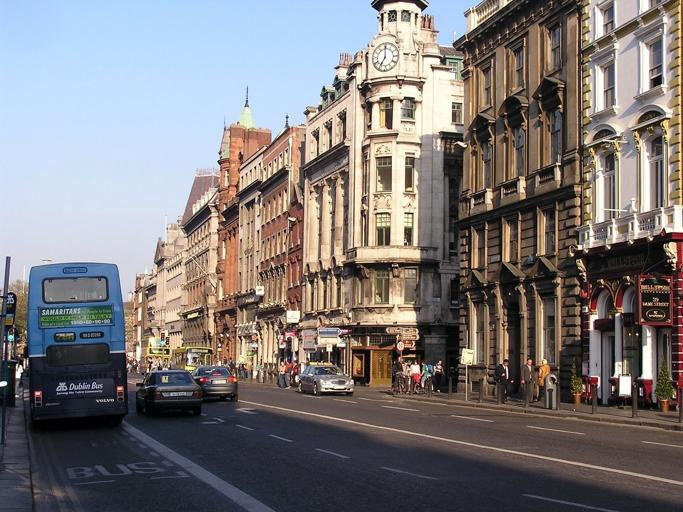non-vehicle: (413, 374, 432, 397), (393, 372, 404, 395)
